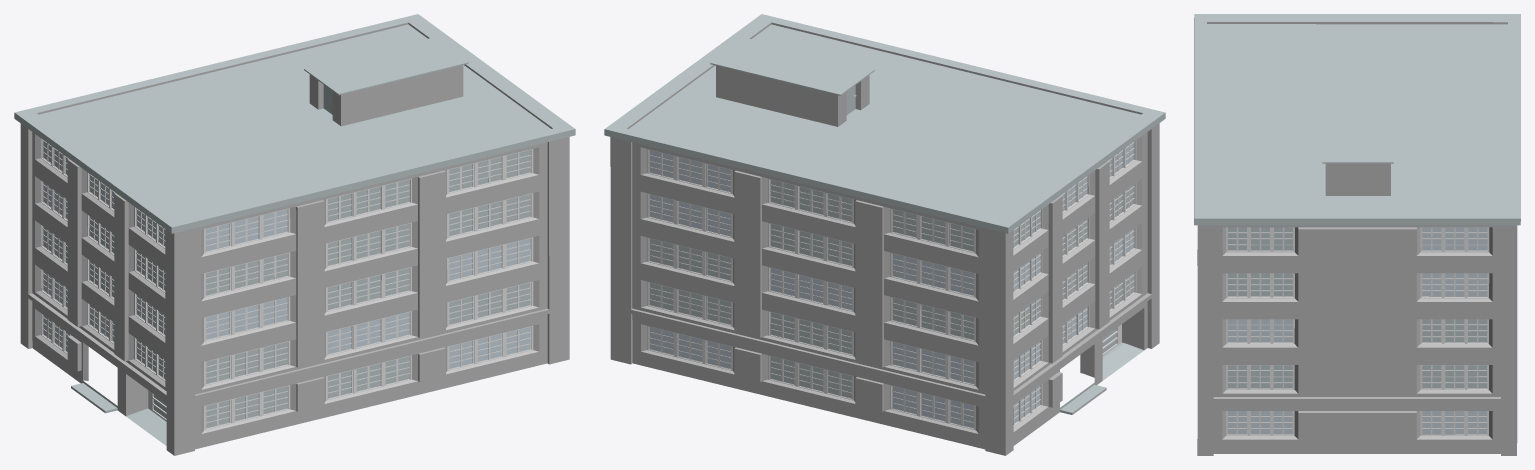
Rendered from apartment.fbx.
3 views of the same model, side by side, from view 1: azimuth 30°, elevation 25°; view 2: azimuth 150°, elevation 25°; view 3: azimuth 270°, elevation 25° (orthographic). The views are drawn at different scales.
Parts seen in each view (by area): view 1: Building_A1; view 2: Building_A1; view 3: Building_A1.
Boxes of the visible parts, box(x1,y1,x2,y2) form: Building_A1: box(14, 14, 575, 455); Building_A1: box(604, 14, 1165, 455); Building_A1: box(1194, 14, 1520, 455).
Size of the model in its own units: 9001 by 5553 by 6016.
